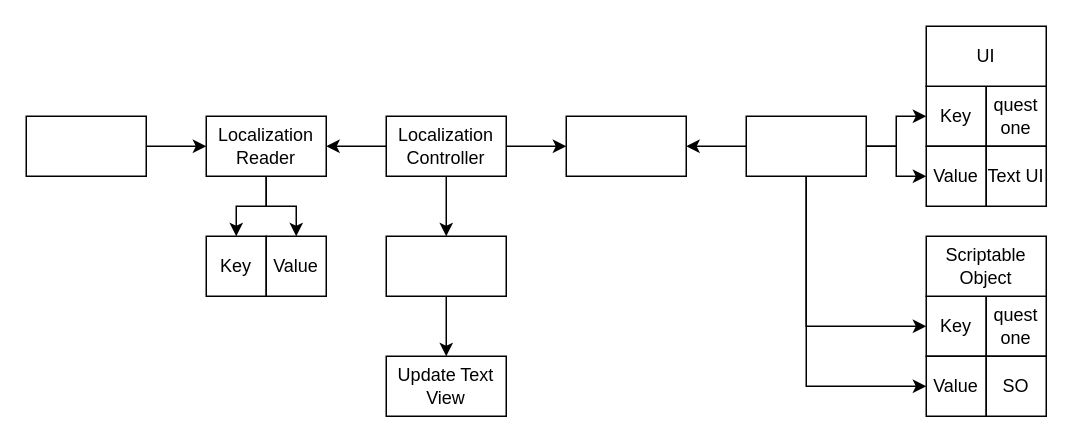
Image size: 1073x443. Some labels were removed from this diagram. The shapes that lost their labels are listed below. From the top down, each one's box as (x1, y1, x2, y2) in pixels, then its label:
(25, 115, 146, 176): Localization Json
(565, 115, 686, 176): Localization View
(745, 115, 866, 176): Localization View Model
(385, 235, 506, 296): Match Reader & UI Key
